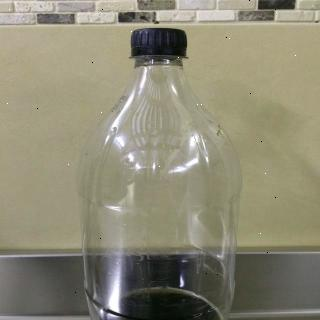Plastic-bottle: (75, 24, 241, 320)
